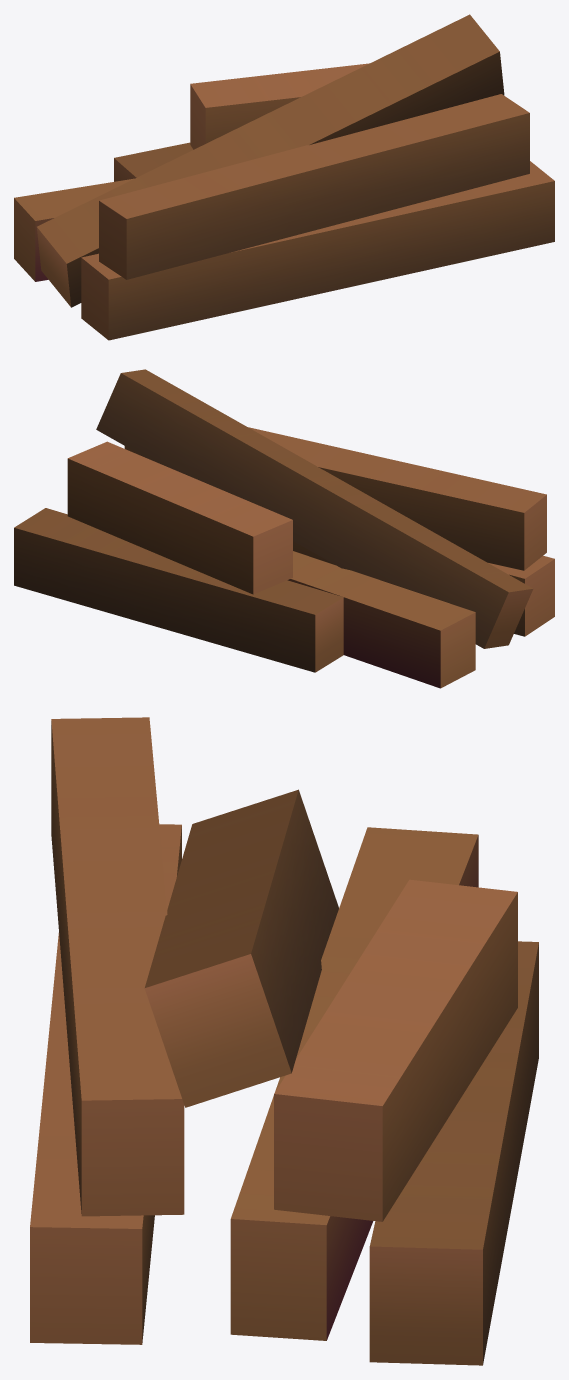
File: Wood_Stack_1C.fbx
3 renders of one model, top to bottom at view 1: azimuth 30°, elevation 25°; view 2: azimuth 150°, elevation 25°; view 3: azimuth 270°, elevation 25°, orthographic. The views are drawn at different scales.
Visible parts, largest first — view 1: Wood_Stack_1C; view 2: Wood_Stack_1C; view 3: Wood_Stack_1C.
Part boxes in pixels (x1,y1,x2,y2): Wood_Stack_1C: (14,14,554,340); Wood_Stack_1C: (14,369,554,688); Wood_Stack_1C: (30,717,538,1365).
Bounding box in the file's own units: 203 × 78.61 × 99.61.
